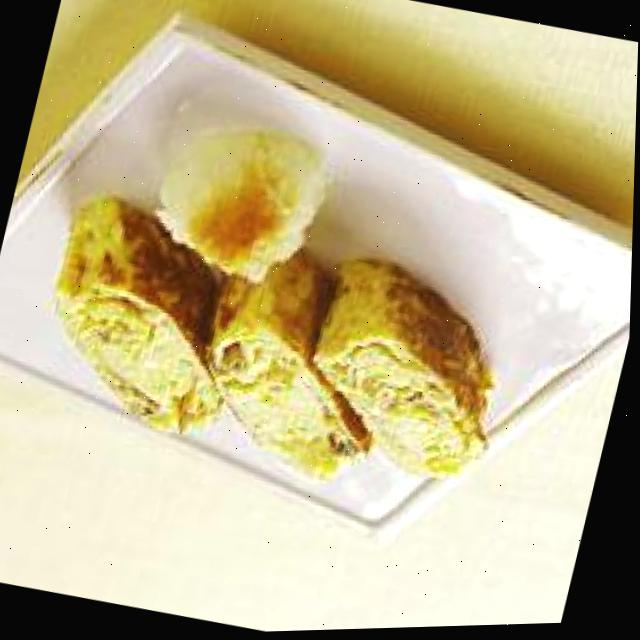鸡蛋料理: (13, 164, 546, 523)
